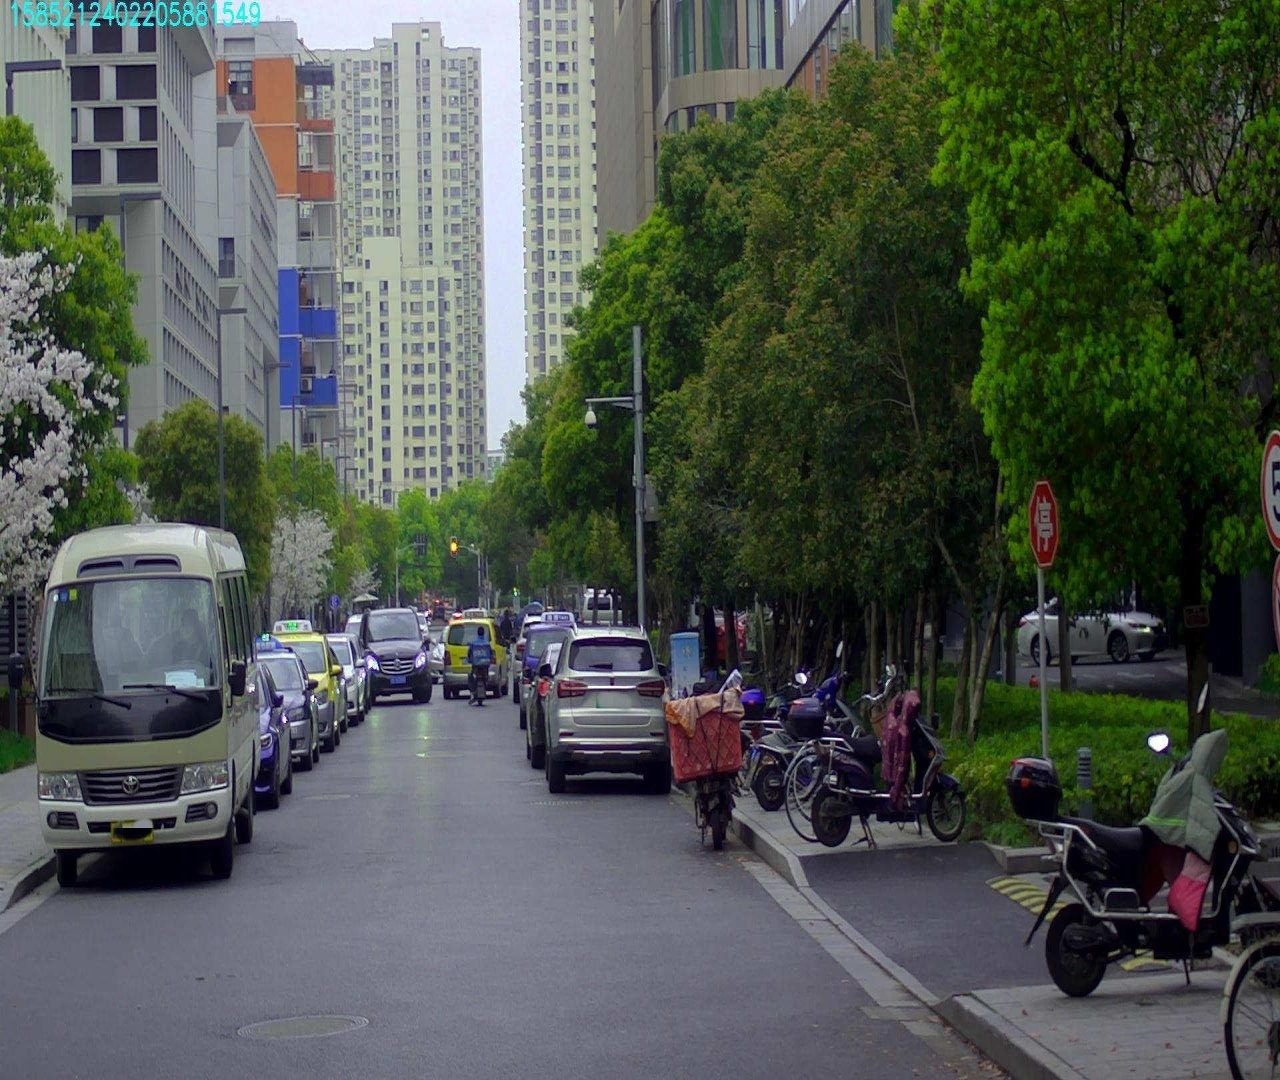yellow: (450, 536, 458, 557)
